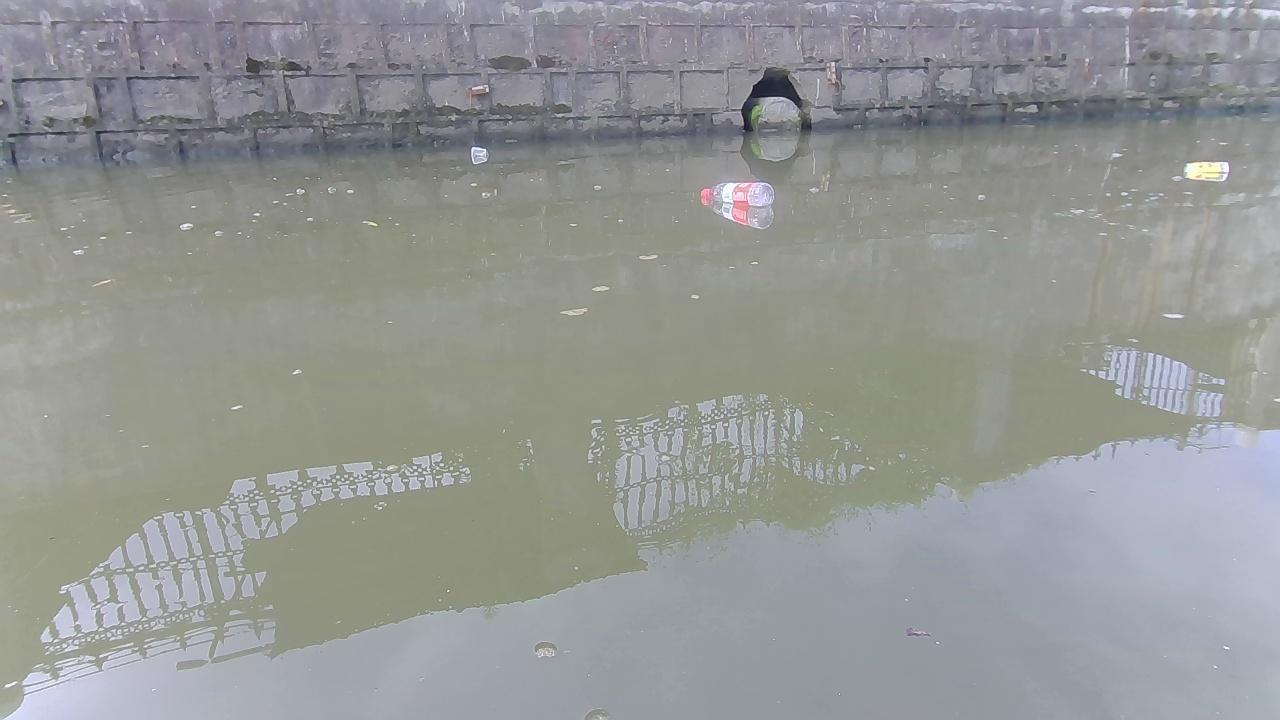bottle: (701, 178, 773, 212), (1185, 160, 1227, 173), (468, 145, 488, 162)
